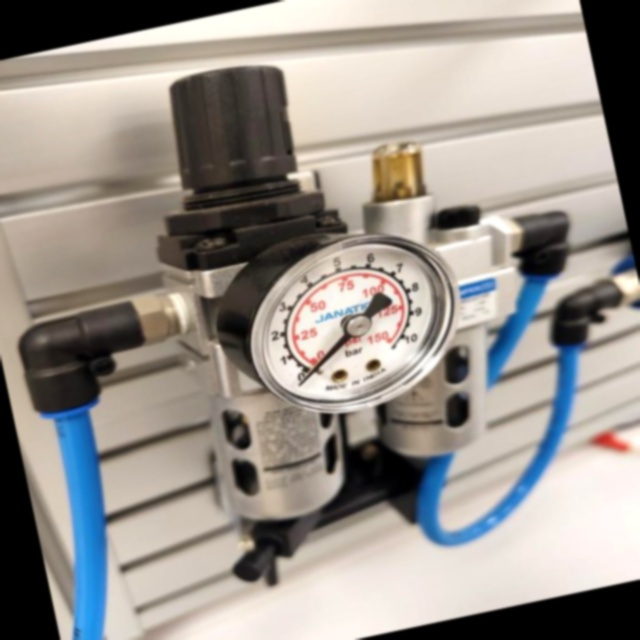FRL unit: (0, 0, 635, 637)
push button: (200, 205, 480, 437)
